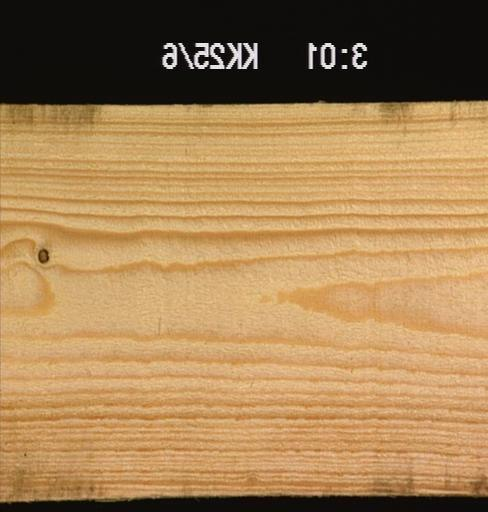dry_knot: (34, 243, 52, 266)
